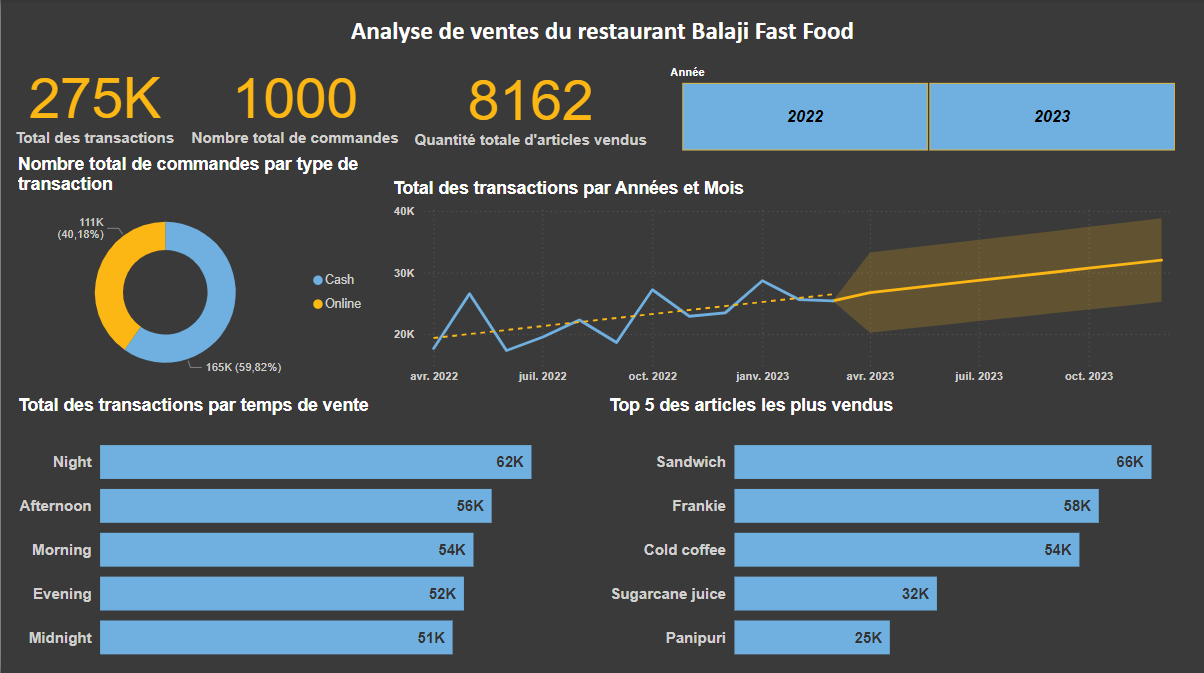

What the dashboard file says about the page in this screenshot:
{"tool":"powerbi","page":{"name":"Page 1","canvas":[1280,720],"ordinal":0},"visuals":[{"type":"card","fields":{"Values":["Balaji Fast Food Sales.Total des transactions"]},"box":[3.3,60,191.7,100],"z":0},{"type":"card","fields":{"Values":["Balaji Fast Food Sales.Nombre total de commandes"]},"box":[195,60,231.7,100],"z":1000},{"type":"card","fields":{"Values":["Balaji Fast Food Sales.Quantité totale d'articles vendus"]},"box":[426.7,61.7,270,100],"z":2000},{"type":"donutChart","title":"Nombre total de commandes par type de transaction","fields":{"Category":["Balaji Fast Food Sales.transaction_type"],"Y":["Balaji Fast Food Sales.Total des transactions"]},"box":[12.7,165.4,383.3,251.3],"z":3000},{"type":"barChart","title":"Top 5 des articles les plus vendus","fields":{"Y":["Balaji Fast Food Sales.transaction_amount"],"Category":["Balaji Fast Food Sales.item_name"]},"box":[639.4,421,621.9,299],"z":4000},{"type":"lineChart","title":"Total des transactions par Années et Mois","fields":{"Category":["Balaji Fast Food Sales.date.Variation.Hiérarchie de dates.Année","Balaji Fast Food Sales.date.Variation.Hiérarchie de dates.Mois"],"Y":["Balaji Fast Food Sales.Total des transactions"]},"box":[410.4,190.9,851,225.9],"z":5000},{"type":"slicer","fields":{"Values":["Balaji Fast Food Sales.date.Variation.Hiérarchie de dates.Année"]},"box":[696.7,66.7,571.7,101.7],"z":6000},{"type":"clusteredBarChart","title":"Total des transactions par temps de vente","fields":{"Category":["Balaji Fast Food Sales.time_of_sale"],"Y":["Balaji Fast Food Sales.Total des transactions"]},"box":[12.7,421,593.3,299],"z":7000},{"type":"textbox","box":[14.3,12.7,1247,46.1],"z":8000}]}

Visuals, with their boxes in screenshot pixels (x1, y1, x2, y2), scaled from the page's 1280x720 canvas onto the 1204x673 screenshot:
card - Balaji Fast Food Sales.Total des transactions: x1=3 y1=56 x2=183 y2=150
card - Balaji Fast Food Sales.Nombre total de commandes: x1=183 y1=56 x2=401 y2=150
card - Balaji Fast Food Sales.Quantité totale d'articles vendus: x1=401 y1=58 x2=655 y2=151
"Nombre total de commandes par type de transaction" donutChart: x1=12 y1=155 x2=372 y2=389
"Top 5 des articles les plus vendus" barChart: x1=601 y1=394 x2=1186 y2=672
"Total des transactions par Années et Mois" lineChart: x1=386 y1=178 x2=1187 y2=390
slicer - Balaji Fast Food Sales.date.Variation.Hiérarchie de dates.Année: x1=655 y1=62 x2=1193 y2=157
"Total des transactions par temps de vente" clusteredBarChart: x1=12 y1=394 x2=570 y2=672
textbox: x1=13 y1=12 x2=1186 y2=55
